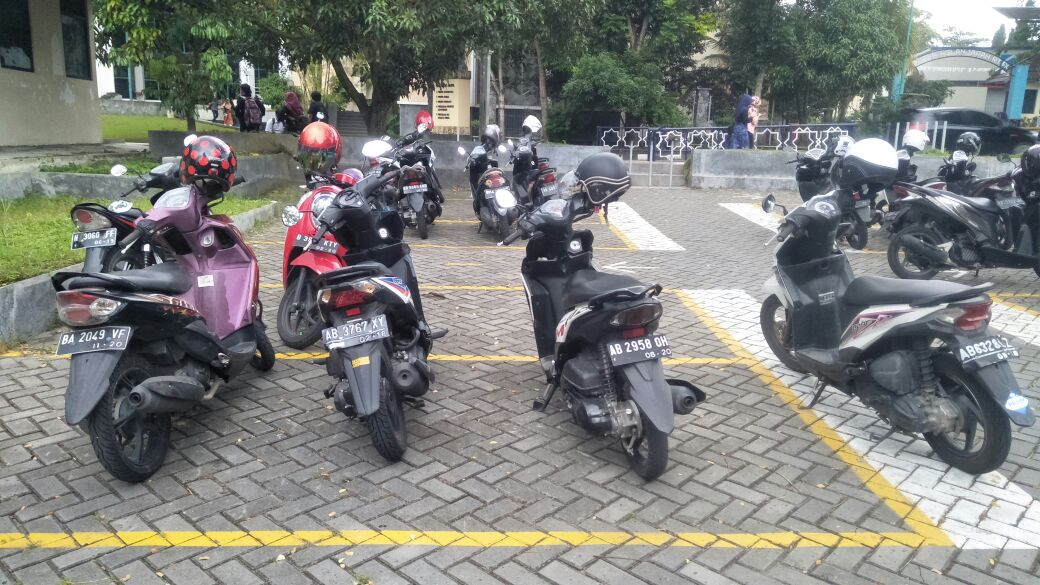plate: (960, 333, 1020, 371), (603, 333, 673, 364), (321, 316, 391, 343), (58, 326, 128, 351), (72, 228, 118, 248), (294, 233, 337, 254), (402, 183, 428, 195)
